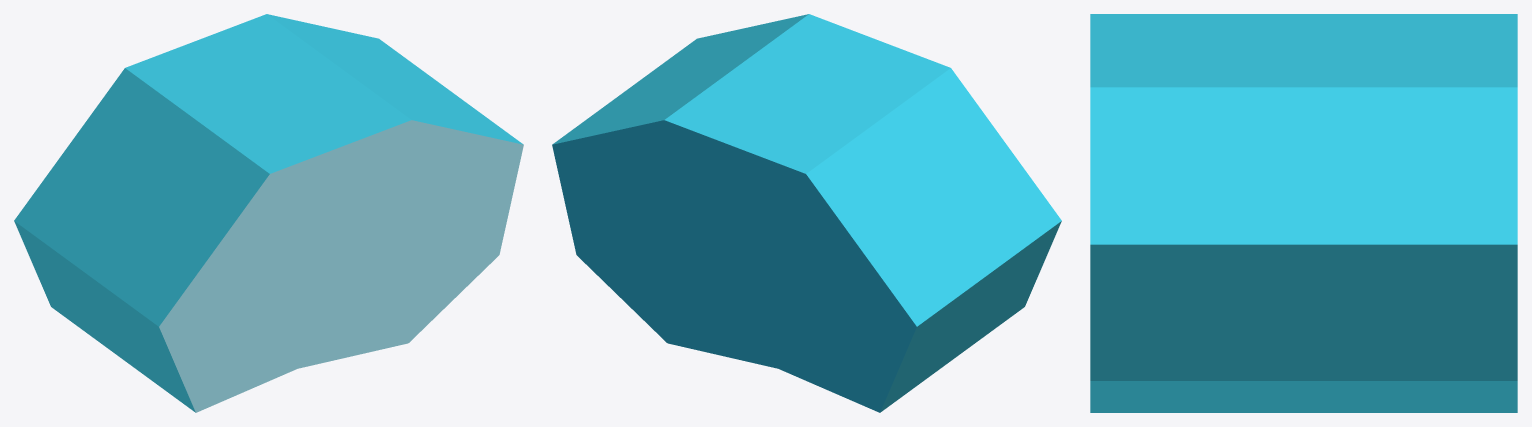
The model's file is D_FBX_07_DesT_Wall_07.fbx.
3 renders of one model, left to right at view 1: azimuth 30°, elevation 25°; view 2: azimuth 150°, elevation 25°; view 3: azimuth 270°, elevation 25°, orthographic. The views are drawn at different scales.
Parts seen in each view (by area): view 1: D_FBX_07_DesT_Wall_07; view 2: D_FBX_07_DesT_Wall_07; view 3: D_FBX_07_DesT_Wall_07.
Part boxes in pixels (left/top/right/bottom): D_FBX_07_DesT_Wall_07: left=14, top=14, right=523, bottom=412; D_FBX_07_DesT_Wall_07: left=552, top=14, right=1061, bottom=412; D_FBX_07_DesT_Wall_07: left=1090, top=14, right=1517, bottom=412.
Bounding box in the file's own units: 164 × 103 × 112.
